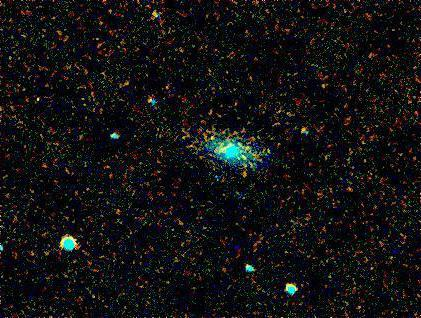star: (307, 75, 337, 105)
